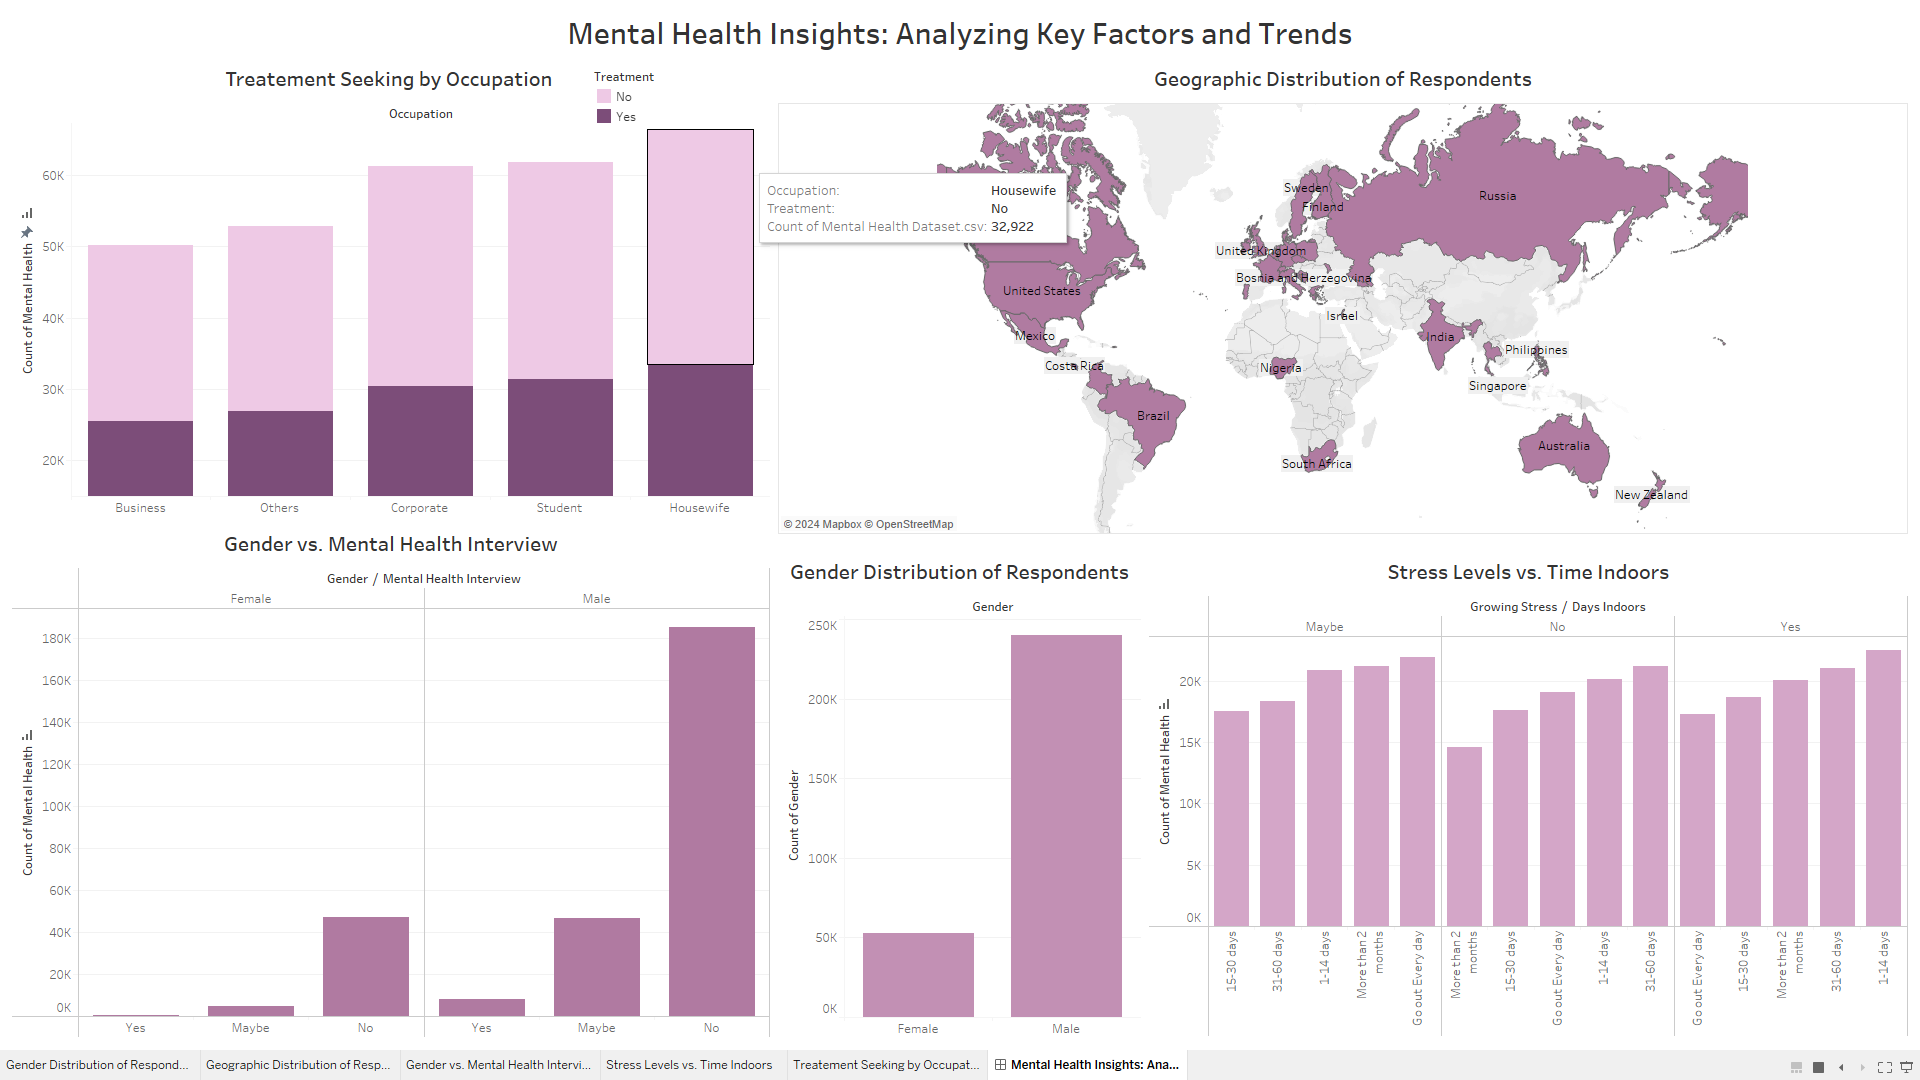

What the dashboard file says about the page in this screenshot:
{"tool":"tableau","page":{"name":"Mental Health Insights: Analyzing Key Factors and Trends","canvas":[1000,1000],"units":"permille","ordinal":0},"visuals":[{"type":"title","box":[4.7,8.9,990.6,53.6]},{"type":"worksheet","title":"Treatement Seeking by Occupation ","mark":"Automatic","rows":["Mental Health Dataset.csv_6B05C12A3709437CB49C12E3A60ACD95"],"cols":["Occupation"],"box":[4.7,62.5,398.3,437.4]},{"type":"worksheet","title":"Geographic Distribution of Respondents","mark":"Multipolygon","box":[402.9,62.5,592.4,464]},{"type":"legend","title":"Treatement Seeking by Occupation ","param":"[federated.0syhjgq0etbdjw1a2rog000pos6w].[none:treatment:nk]","box":[309.5,64.7,81.9,64.7]},{"type":"worksheet","title":"Gender vs. Mental Health Interview","mark":"Automatic","rows":["Mental Health Dataset.csv_6B05C12A3709437CB49C12E3A60ACD95"],"cols":["Gender","mental_health_interview"],"box":[4.7,499.9,398.3,491.2]},{"type":"worksheet","title":"Gender Distribution of Respondents","mark":"Automatic","rows":["Gender"],"cols":["Gender"],"box":[402.9,526.5,193,464.6]},{"type":"worksheet","title":"Stress Levels vs. Time Indoors","mark":"Automatic","rows":["Mental Health Dataset.csv_6B05C12A3709437CB49C12E3A60ACD95"],"cols":["Growing_Stress","Days_Indoors"],"box":[596,526.5,399.3,464.6]}]}

Visuals, with their boxes on the dashboard's canvas, which has no fixed pixel size, in thousandths of its width and height (x1, y1, x2, y2). These are canvas units, not pixel positions in the 1920x1080 screenshot, which may show the page scaled, cropped or inside an application window:
title: bbox(5, 9, 995, 62)
"Treatement Seeking by Occupation " worksheet: bbox(5, 62, 403, 500)
"Geographic Distribution of Respondents" worksheet (Multipolygon marks): bbox(403, 62, 995, 526)
"Treatement Seeking by Occupation " legend: bbox(310, 65, 391, 129)
"Gender vs. Mental Health Interview" worksheet: bbox(5, 500, 403, 991)
"Gender Distribution of Respondents" worksheet: bbox(403, 526, 596, 991)
"Stress Levels vs. Time Indoors" worksheet: bbox(596, 526, 995, 991)
